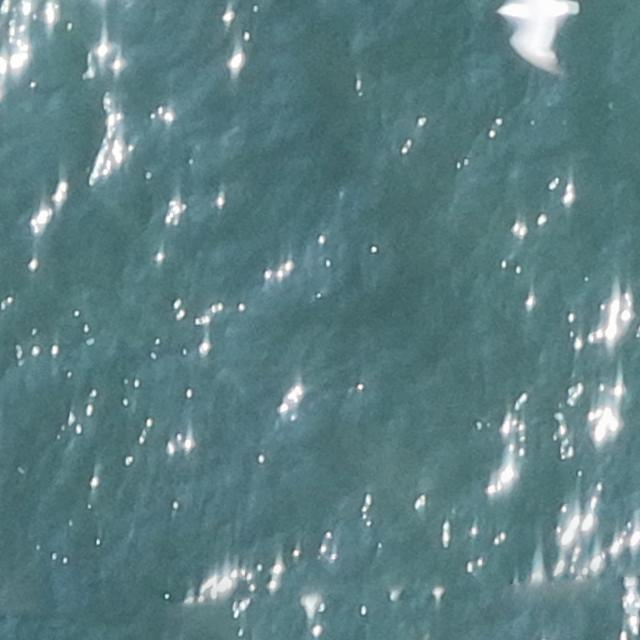F: (495, 4, 578, 67)
